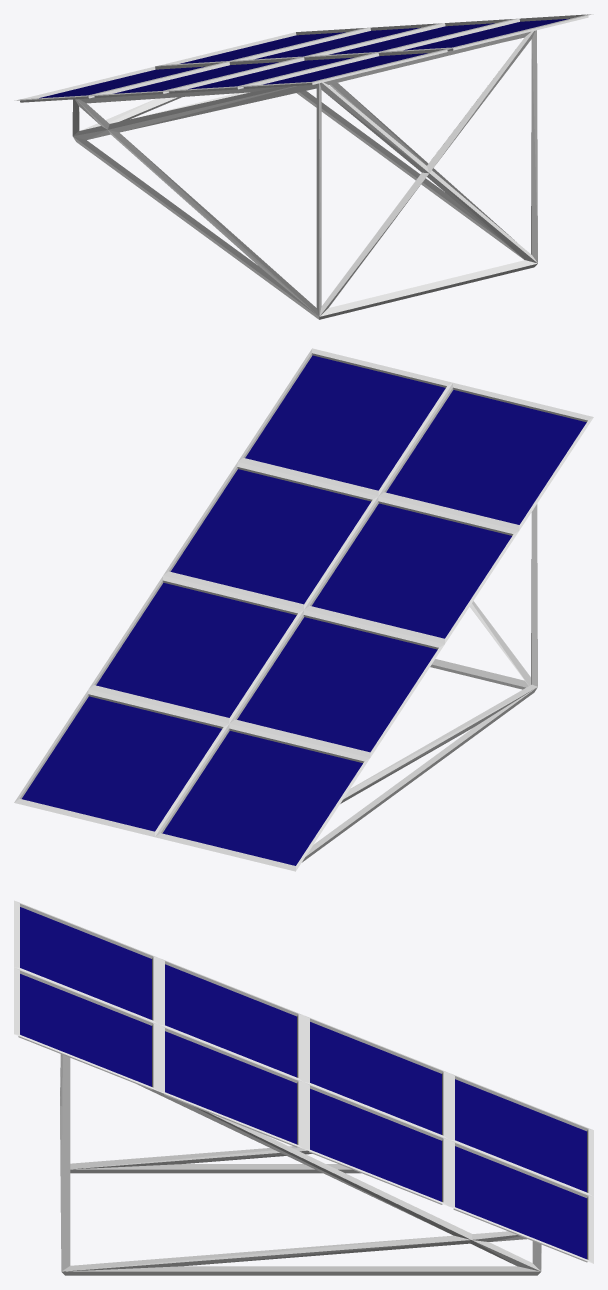
File: panel.fbx
The picture shows the model from 3 angles, top to bottom: view 1: azimuth 30°, elevation 25°; view 2: azimuth 150°, elevation 25°; view 3: azimuth 270°, elevation 25°; orthographic projection. The views are drawn at different scales.
Parts seen in each view (by area): view 1: Cube, Plane; view 2: Plane, Cube; view 3: Plane, Cube.
Boxes of the visible parts, x1=… form: Cube: x1=72, y1=30, x2=537, y2=319; Plane: x1=14, y1=14, x2=593, y2=102; Plane: x1=14, y1=348, x2=593, y2=871; Cube: x1=302, y1=504, x2=537, y2=862; Plane: x1=14, y1=900, x2=593, y2=1263; Cube: x1=60, y1=1054, x2=541, y2=1275.
Size of the model in its own units: 200 by 179 by 366.
